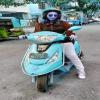motorcycles: (18, 33, 70, 91)
